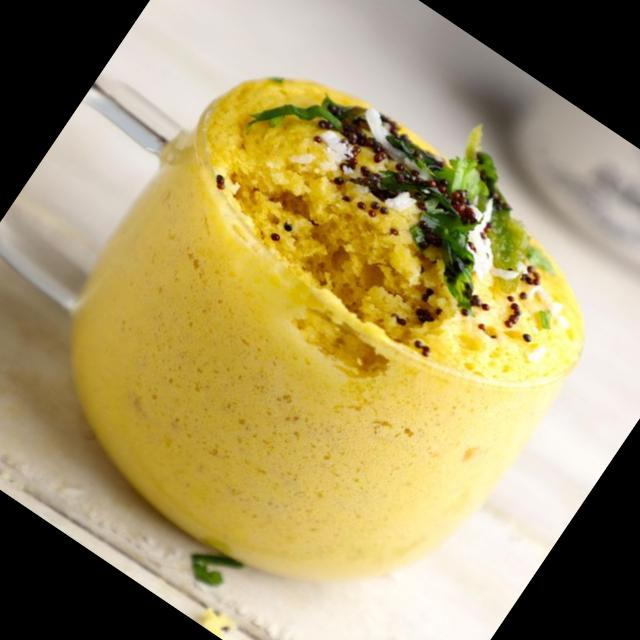dhokla: (0, 19, 630, 640)
